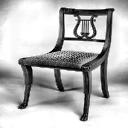chair_success: (12, 4, 120, 124)
